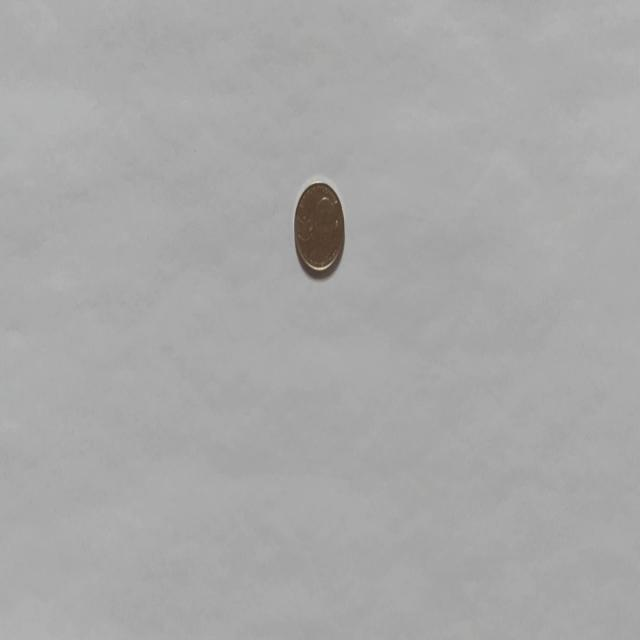seribu rupiah koin: (292, 176, 346, 278)
